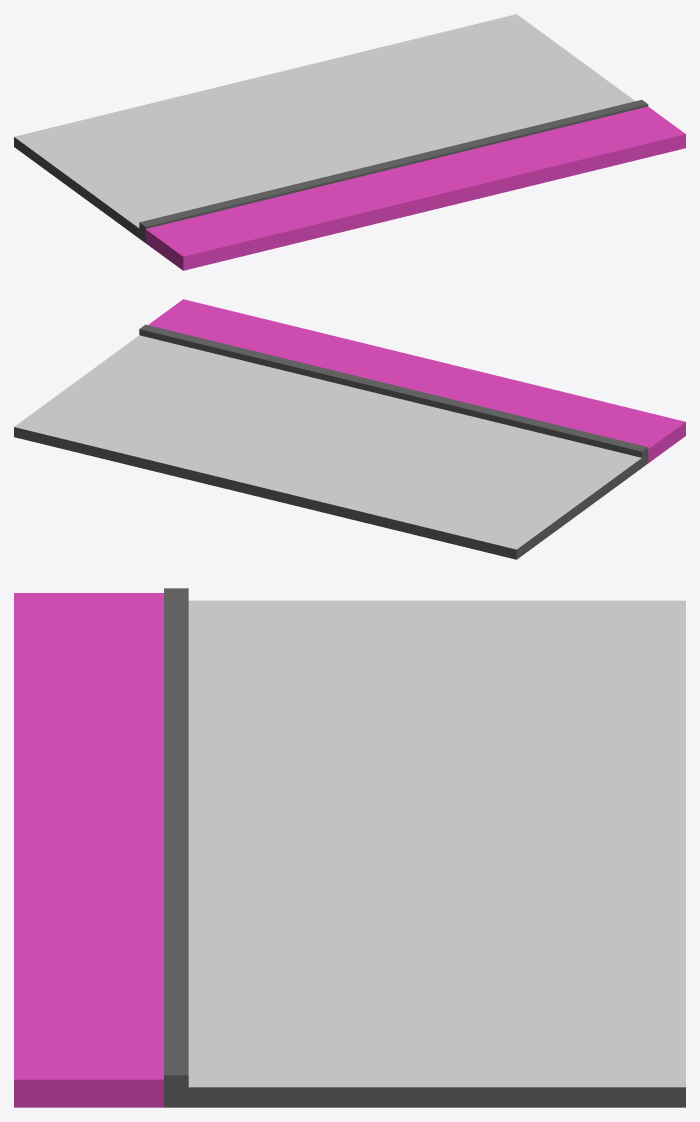
3 renders of one model, top to bottom at view 1: azimuth 30°, elevation 25°; view 2: azimuth 150°, elevation 25°; view 3: azimuth 270°, elevation 25°, orthographic. The views are drawn at different scales.
Visible parts, largest first — view 1: Cube.002; view 2: Cube.002; view 3: Cube.002.
Boxes of the visible parts, x1,y1,x2,y2 form: Cube.002: [14, 14, 685, 270]; Cube.002: [14, 299, 685, 559]; Cube.002: [14, 588, 685, 1107].
Size of the model in its own units: 19862 by 616 by 11586.
